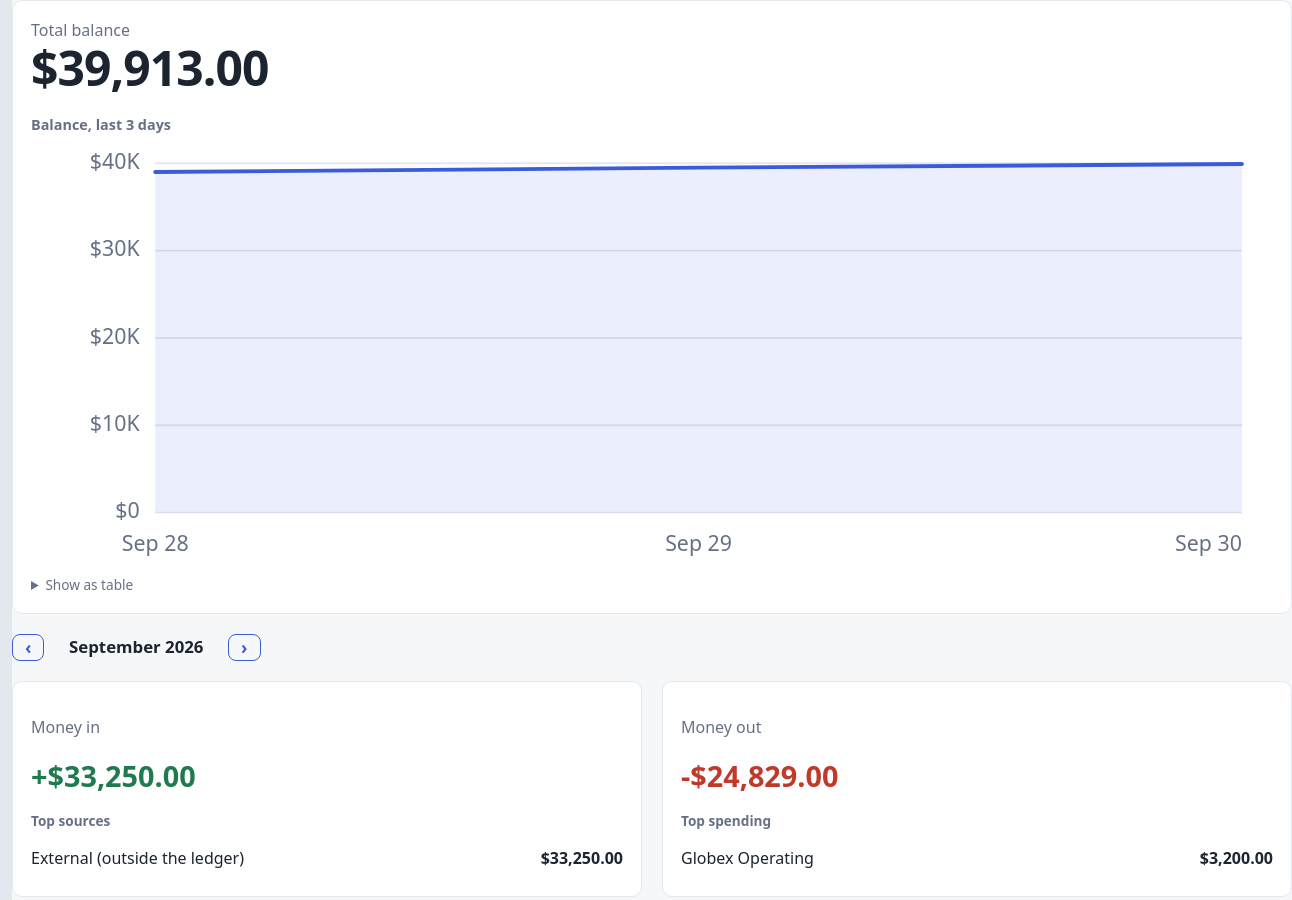
DashboardPage › reads the chart with the keyboard, and has a table of every day
Focus the slider named "Balance by day, last 3 days" at (652, 353), box [31,140,1273,567]
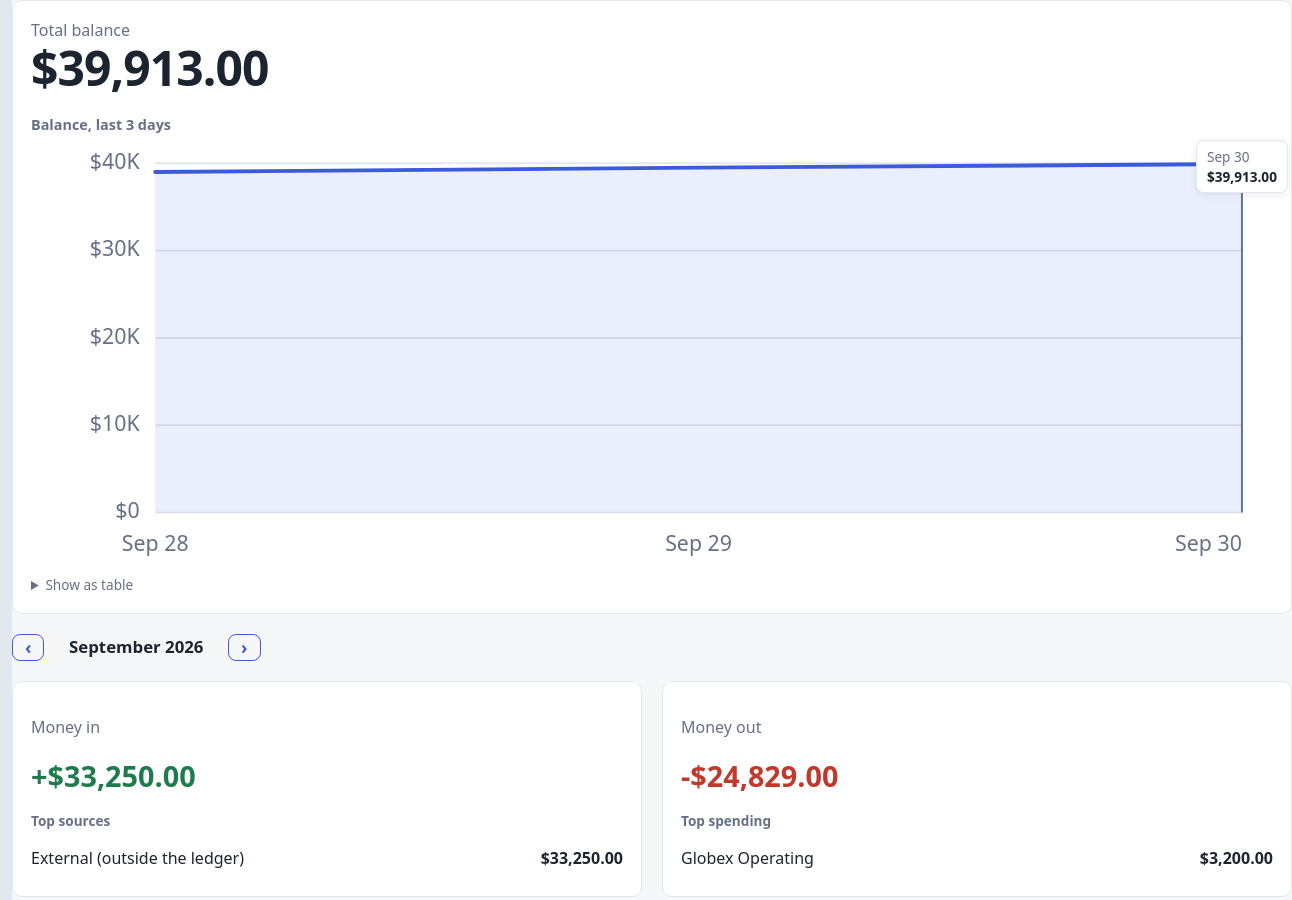
Expected: the element showing "Sep 30 $39,913.00" is shown, [1196,140,1288,193]
Press ArrowLeft in the slider named "Balance by day, last 3 days", box [31,140,1273,567]
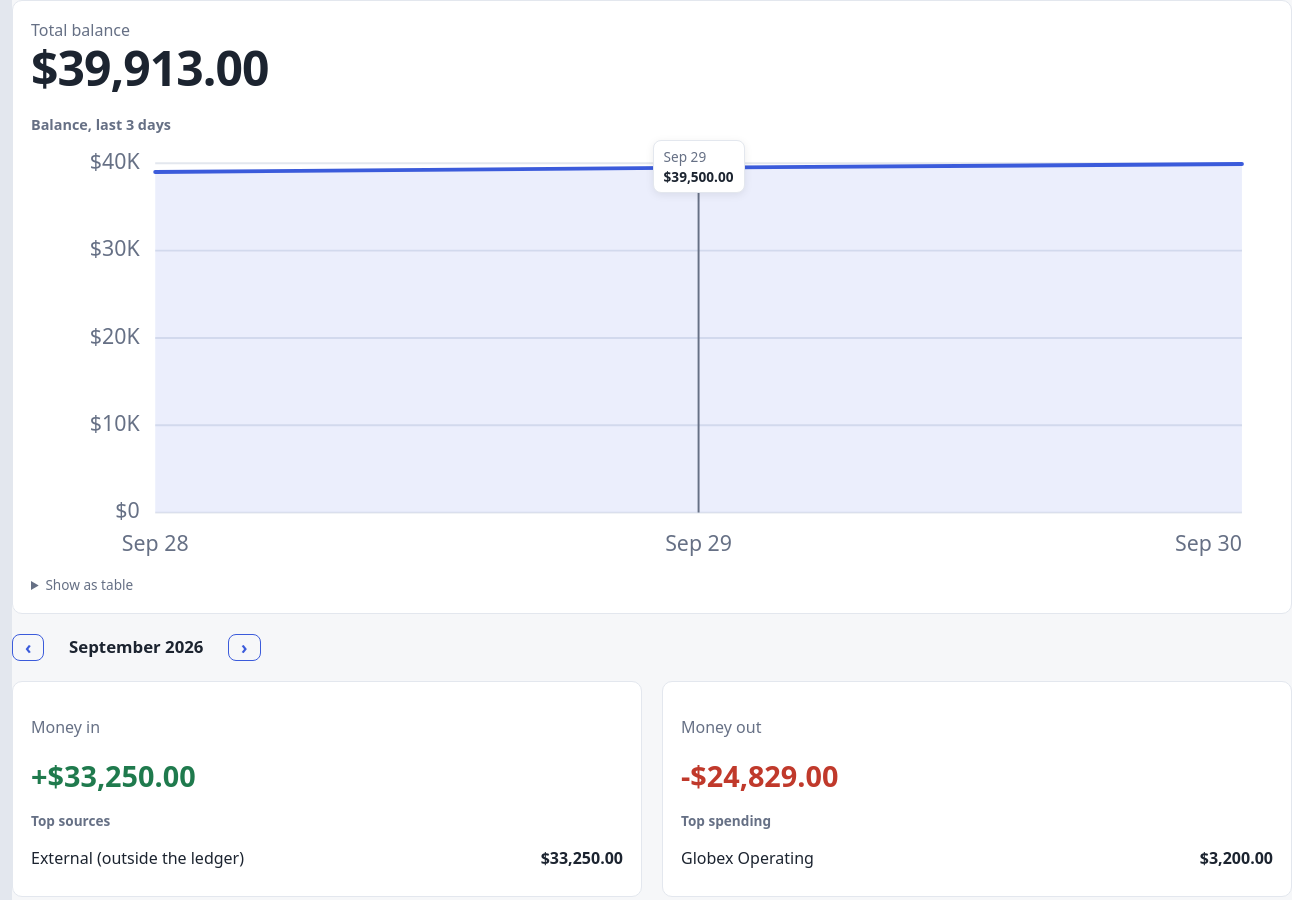
Expected: the heading "Show as table" is shown, [45,575,133,594]
Expected: the element showing "Sep 29 $39,500.00" is shown, [653,140,745,193]
